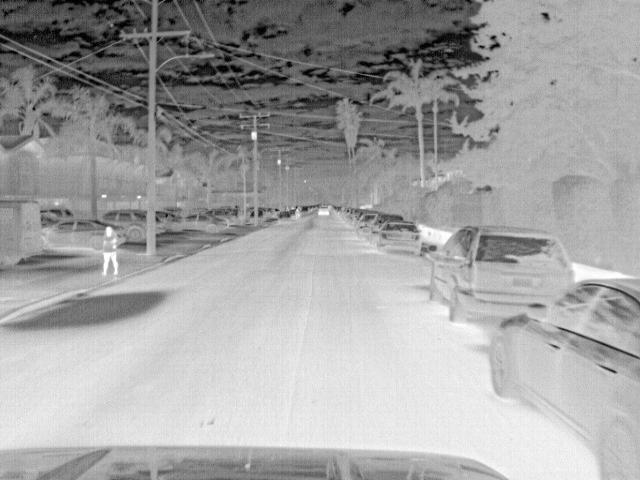car: (488, 279, 639, 479), (424, 227, 573, 323), (32, 220, 97, 252), (373, 220, 424, 252), (98, 209, 146, 243), (170, 212, 228, 233), (369, 214, 405, 241), (154, 208, 184, 230), (355, 213, 377, 237), (314, 204, 333, 218), (276, 210, 292, 223), (288, 208, 301, 220)
person: (99, 224, 120, 277)
